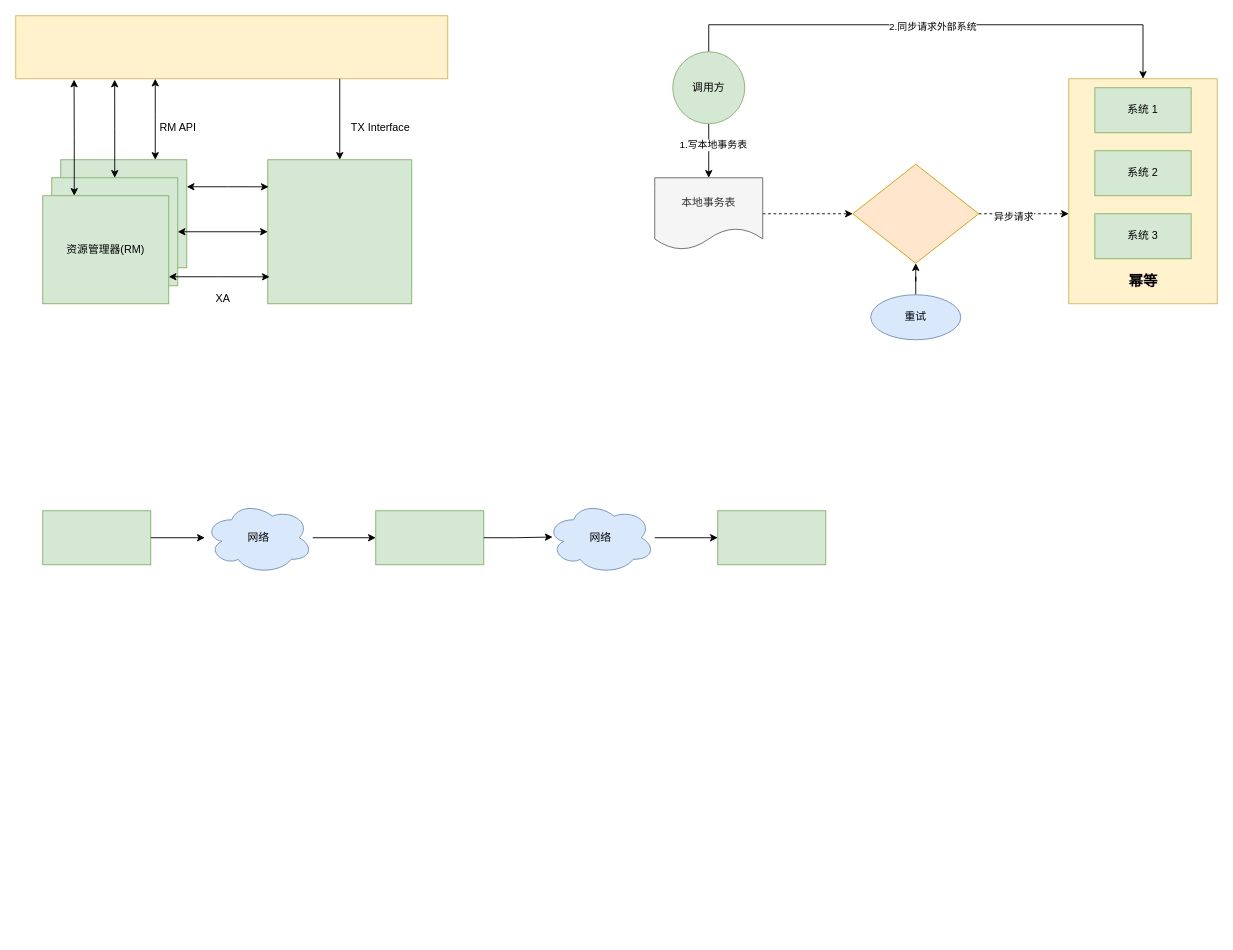
This 1233x950 diagram has some shape labels left out. Here are the shapes that lost their labels. From the top down, the box of each, then its label:
(15, 15, 448, 79): 应用程序(AP)
(267, 159, 412, 304): 事务管理器(TM)
(852, 163, 979, 263): 定时任务
(42, 510, 151, 565): 事务发起方
(375, 510, 484, 565): 消息中间件
(717, 510, 826, 565): 事务参与方
